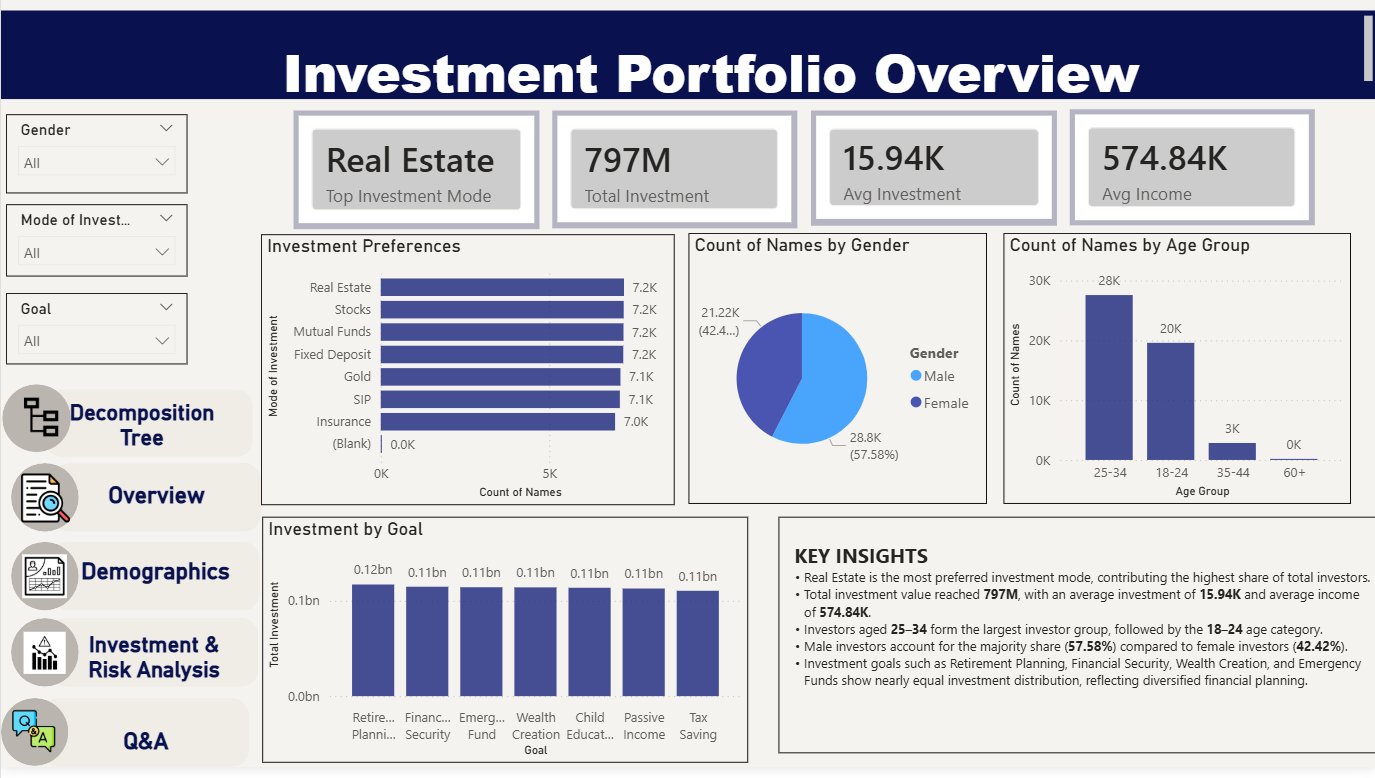

Layout of this report page (visuals, bound fields, positions):
{"tool":"powerbi","page":{"name":"Overview","canvas":[1280,720],"ordinal":2},"visuals":[{"type":"pieChart","fields":{"Category":["investment_survey.Gender"],"Y":["CountNonNull(investment_survey.Names)"]},"box":[639.5,223.3,277.9,252.3],"z":0},{"type":"shape","box":[45,581.5,194.1,63.9],"z":0,"group":"g1"},{"type":"slicer","fields":{"Values":["investment_survey.Gender"]},"box":[5,112.5,168.8,73.8],"z":1000},{"type":"shape","box":[46.2,510.4,194.1,63.9],"z":1000,"group":"g1"},{"type":"textbox","box":[0,16.4,1281.1,82.1],"z":2000},{"type":"shape","box":[47.5,437.1,194.1,63.9],"z":2000,"group":"g1"},{"type":"cardVisual","fields":{"Data":["investment_survey.Total Investment"]},"box":[512.8,109.3,227.9,109.3],"z":3000},{"type":"shape","box":[41.1,369,193.6,63.2],"z":3000,"group":"g1"},{"type":"cardVisual","fields":{"Data":["investment_survey.Avg Investment"]},"box":[753.5,109.3,229.1,107],"z":4000},{"type":"actionButton","title":"Decomposition Tree","box":[60.6,377.3,141.7,48.7],"z":4000,"group":"g1"},{"type":"cardVisual","fields":{"Data":["investment_survey.Avg Income"]},"box":[994.2,108.1,227.9,108.1],"z":5000},{"type":"shape","box":[1.1,363.8,63.8,63.2],"z":5000,"group":"g1"},{"type":"slicer","fields":{"Values":["investment_survey.Mode of Investment"]},"box":[5,196.2,168.8,67.5],"z":6000},{"type":"image","box":[9.1,374.3,55.6,40.2],"z":6000,"group":"g1"},{"type":"slicer","fields":{"Values":["investment_survey.Goal"]},"box":[5,278.8,168.8,66.2],"z":7000},{"type":"actionButton","title":"Overview","box":[74.7,454.8,140.9,27.2],"z":7000,"group":"g1"},{"type":"clusteredBarChart","title":"Investment Preferences","fields":{"Category":["investment_survey.Mode of Investment"],"Y":["CountNonNull(investment_survey.Names)"]},"box":[241.9,224.4,384.9,252.3],"z":8000},{"type":"actionButton","title":"Demographics","box":[73.4,525.8,140.9,26],"z":8000,"group":"g1"},{"type":"columnChart","fields":{"Category":["investment_survey.Age Group"],"Y":["CountNonNull(investment_survey.Names)"]},"box":[932.6,223.3,323.3,252.3],"z":9000},{"type":"actionButton","title":"Investment & Risk Analysis","box":[72.2,594.5,140.9,48.5],"z":9000,"group":"g1"},{"type":"cardVisual","fields":{"Data":["investment_survey.Top Investment Mode"]},"box":[272.1,109.3,229.1,110.5],"z":10000},{"type":"shape","box":[9.1,437.1,63.1,63.9],"z":10000,"group":"g1"},{"type":"clusteredColumnChart","title":" Investment by Goal","fields":{"Category":["investment_survey.Goal"],"Y":["investment_survey.Total Investment"]},"box":[243,487.2,452.3,229.1],"z":11000},{"type":"shape","box":[9.1,581.5,63.1,63.9],"z":11000,"group":"g1"},{"type":"textbox","box":[723.3,487.2,557,219.8],"z":12000},{"type":"shape","box":[9.1,510.4,63.1,63.9],"z":12000,"group":"g1"},{"type":"group","id":"g1","title":"Group 1","box":[0,363.8,241.2,356.2],"z":13000},{"type":"image","box":[19,432.3,45.7,74.6],"z":13000,"group":"g1"},{"type":"image","box":[19.7,519.8,41.3,45.3],"z":14000,"group":"g1"},{"type":"image","box":[18.6,594,44.3,39.5],"z":15000,"group":"g1"},{"type":"shape","box":[36.8,655.8,193.6,64.2],"z":16000,"group":"g1"},{"type":"actionButton","title":"Q&A","box":[63.8,683.8,141.7,29],"z":17000,"group":"g1"},{"type":"shape","box":[0,655.8,62.7,63.2],"z":18000,"group":"g1"},{"type":"image","box":[10.8,665.2,40,43.5],"z":19000,"group":"g1"}]}

Visuals, with their boxes in screenshot pixels (x1, y1, x2, y2), scaled from the page's 1280x720 canvas onto the 1375x778 screenshot:
pieChart - investment_survey.Gender x CountNonNull(investment_survey.Names): [687,241,985,514]
shape: [48,628,257,697]
slicer - investment_survey.Gender: [5,122,187,201]
shape: [50,552,258,621]
textbox: [0,18,1374,106]
shape: [51,472,260,541]
cardVisual - investment_survey.Total Investment: [551,118,796,236]
shape: [44,399,252,467]
cardVisual - investment_survey.Avg Investment: [809,118,1056,234]
"Decomposition Tree" actionButton: [65,408,217,460]
cardVisual - investment_survey.Avg Income: [1068,117,1313,234]
shape: [1,393,70,461]
slicer - investment_survey.Mode of Investment: [5,212,187,285]
image: [10,404,70,448]
slicer - investment_survey.Goal: [5,301,187,373]
"Overview" actionButton: [80,491,232,521]
"Investment Preferences" clusteredBarChart: [260,242,673,515]
"Demographics" actionButton: [79,568,230,596]
columnChart - investment_survey.Age Group x CountNonNull(investment_survey.Names): [1002,241,1349,514]
"Investment & Risk Analysis" actionButton: [78,642,229,695]
cardVisual - investment_survey.Top Investment Mode: [292,118,538,238]
shape: [10,472,78,541]
" Investment by Goal" clusteredColumnChart: [261,526,747,774]
shape: [10,628,78,697]
textbox: [777,526,1374,764]
shape: [10,552,78,621]
"Group 1" group: [0,393,259,777]
image: [20,467,70,548]
image: [21,562,66,611]
image: [20,642,68,685]
shape: [40,709,247,777]
"Q&A" actionButton: [69,739,221,770]
shape: [0,709,67,777]
image: [12,719,55,766]
